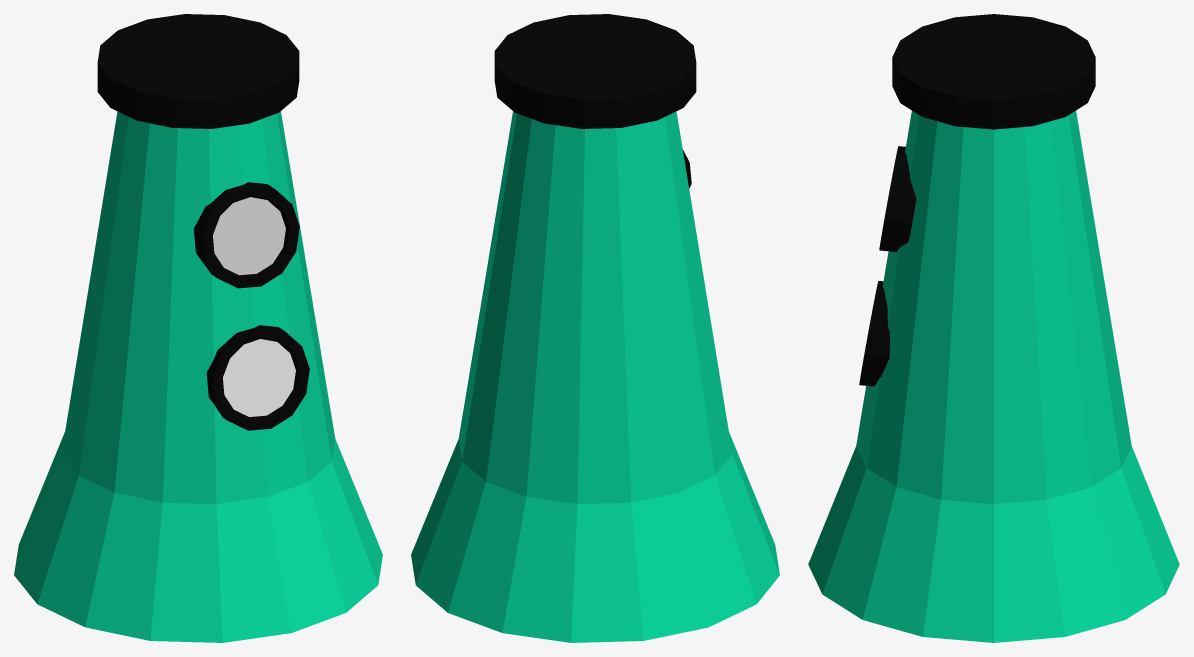
Rendered from nauMig.fbx.
The picture shows the model from 3 angles, left to right: view 1: azimuth 30°, elevation 25°; view 2: azimuth 150°, elevation 25°; view 3: azimuth 270°, elevation 25°; orthographic projection.
Parts seen in each view (by area): view 1: PartMig, Cylinder.003, Cylinder.004; view 2: PartMig; view 3: PartMig, Cylinder.003, Cylinder.004.
Boxes of the visible parts, x1,y1,x2,y2 form: PartMig: [14, 14, 382, 642]; Cylinder.003: [193, 182, 299, 288]; Cylinder.004: [206, 325, 309, 430]; PartMig: [411, 14, 779, 642]; PartMig: [808, 14, 1179, 642]; Cylinder.003: [879, 146, 916, 251]; Cylinder.004: [859, 281, 889, 386].
Size of the model in its own units: 178 by 268 by 178.
